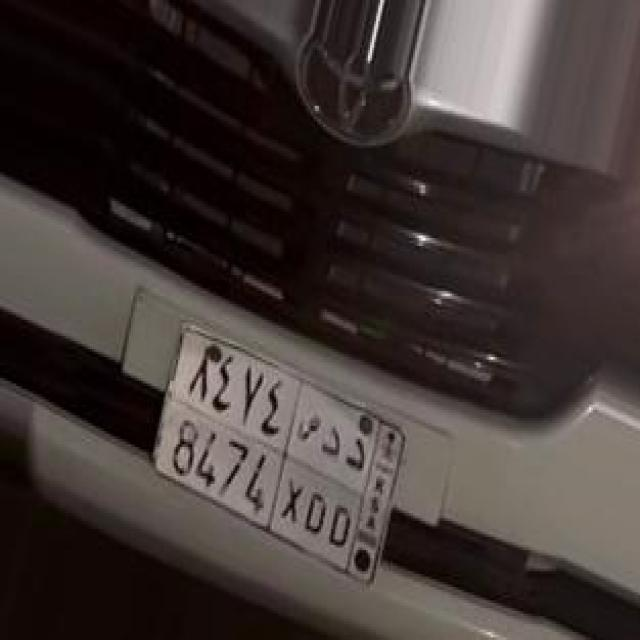Car-plate: (131, 290, 432, 611)
